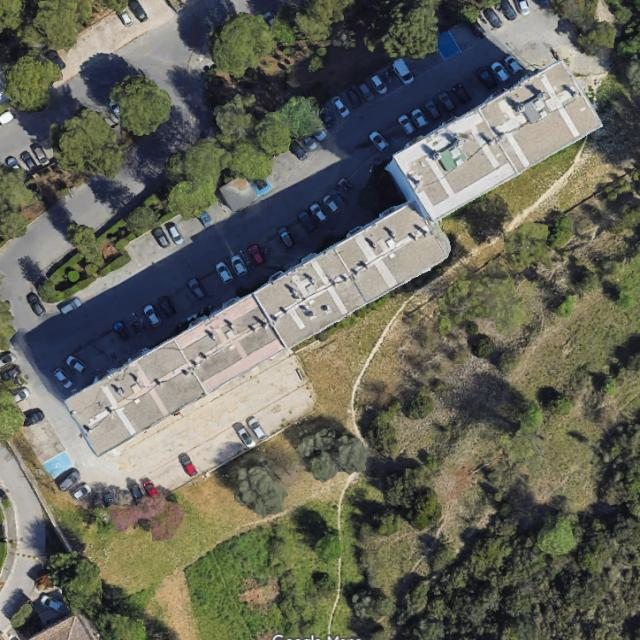immeuble: (59, 190, 457, 458), (379, 53, 603, 231)
